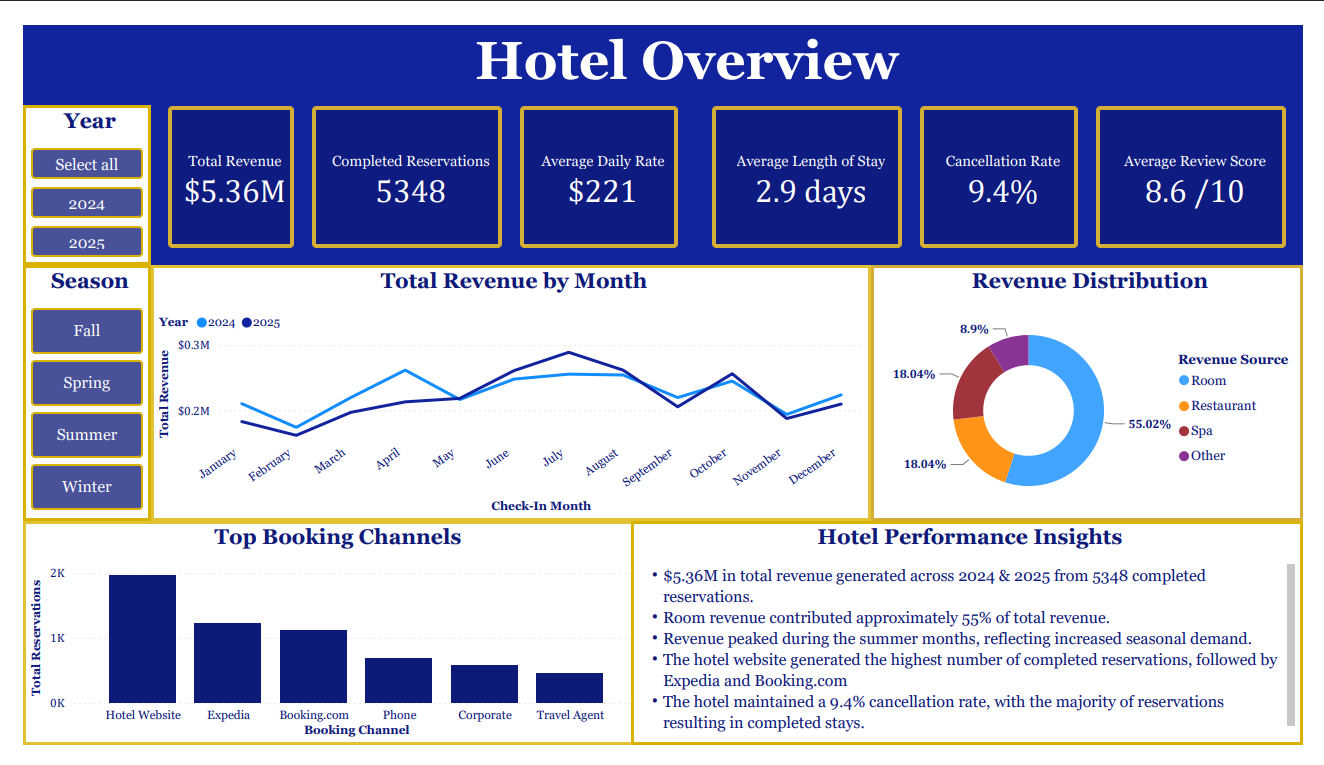

What the dashboard file says about the page in this screenshot:
{"tool":"powerbi","page":{"name":"Hotel Overview","canvas":[1280,720],"ordinal":0},"visuals":[{"type":"cardVisual","fields":{"Data":["hotel_reservations.Total Revenue M"]},"box":[128,64,160,176],"z":0},{"type":"cardVisual","fields":{"Data":["hotel_reservations.Average Daily Rate"]},"box":[480,64,192,176],"z":1000},{"type":"cardVisual","fields":{"Data":["hotel_reservations.Average Review Score"]},"box":[1056,64,224,176],"z":2000},{"type":"cardVisual","fields":{"Data":["hotel_reservations.Average Length of Stay"]},"box":[672,64,224,176],"z":3000},{"type":"cardVisual","fields":{"Data":["hotel_reservations.Cancellation Rate"]},"box":[880,64,192,176],"z":4000},{"type":"textbox","box":[432,0,464,80],"z":5000},{"type":"cardVisual","fields":{"Data":["hotel_reservations.Completed Reservations"]},"box":[272,64,224,176],"z":6000},{"type":"lineChart","title":"Total Revenue by Month","fields":{"Series":["hotel_reservations.Check-In Year"],"Y":["hotel_reservations.Total Revenue"],"Category":["hotel_reservations.Check-In Month"]},"box":[128,240,720,256],"z":7000},{"type":"donutChart","title":"Revenue Distribution","fields":{"Y":["hotel_reservations.Room Revenue %","hotel_reservations.Restaurant Revenue %","hotel_reservations.Spa Revenue %","hotel_reservations.Other Revenue %"]},"box":[848,240,432,256],"z":8000},{"type":"columnChart","title":"Top Booking Channels","fields":{"Category":["hotel_reservations.Booking Channel"],"Y":["hotel_reservations.Total Reservations"]},"box":[0,496,624,224],"z":9000},{"type":"advancedSlicerVisual","title":"Year","fields":{"Values":["hotel_reservations.Check-In Year"]},"box":[0,80,128,160],"z":10000},{"type":"textbox","title":"Hotel Performance Insights","box":[608,496,672,224],"z":11000},{"type":"advancedSlicerVisual","fields":{"Values":["hotel_reservations.Season"]},"box":[0,240,128,256],"z":12000}]}

Visuals, with their boxes in screenshot pixels (x1, y1, x2, y2), scaled from the page's 1280x720 canvas onto the 1324x765 screenshot:
cardVisual - hotel_reservations.Total Revenue M: left=132, top=68, right=298, bottom=255
cardVisual - hotel_reservations.Average Daily Rate: left=496, top=68, right=695, bottom=255
cardVisual - hotel_reservations.Average Review Score: left=1092, top=68, right=1323, bottom=255
cardVisual - hotel_reservations.Average Length of Stay: left=695, top=68, right=927, bottom=255
cardVisual - hotel_reservations.Cancellation Rate: left=910, top=68, right=1109, bottom=255
textbox: left=447, top=0, right=927, bottom=85
cardVisual - hotel_reservations.Completed Reservations: left=281, top=68, right=513, bottom=255
"Total Revenue by Month" lineChart: left=132, top=255, right=877, bottom=527
"Revenue Distribution" donutChart: left=877, top=255, right=1323, bottom=527
"Top Booking Channels" columnChart: left=0, top=527, right=645, bottom=764
"Year" advancedSlicerVisual: left=0, top=85, right=132, bottom=255
"Hotel Performance Insights" textbox: left=629, top=527, right=1323, bottom=764
advancedSlicerVisual - hotel_reservations.Season: left=0, top=255, right=132, bottom=527
